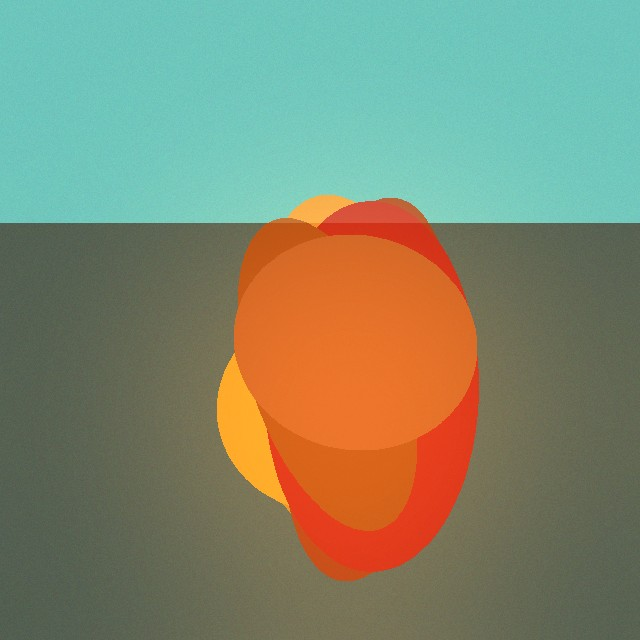fire: (262, 277, 438, 545)
